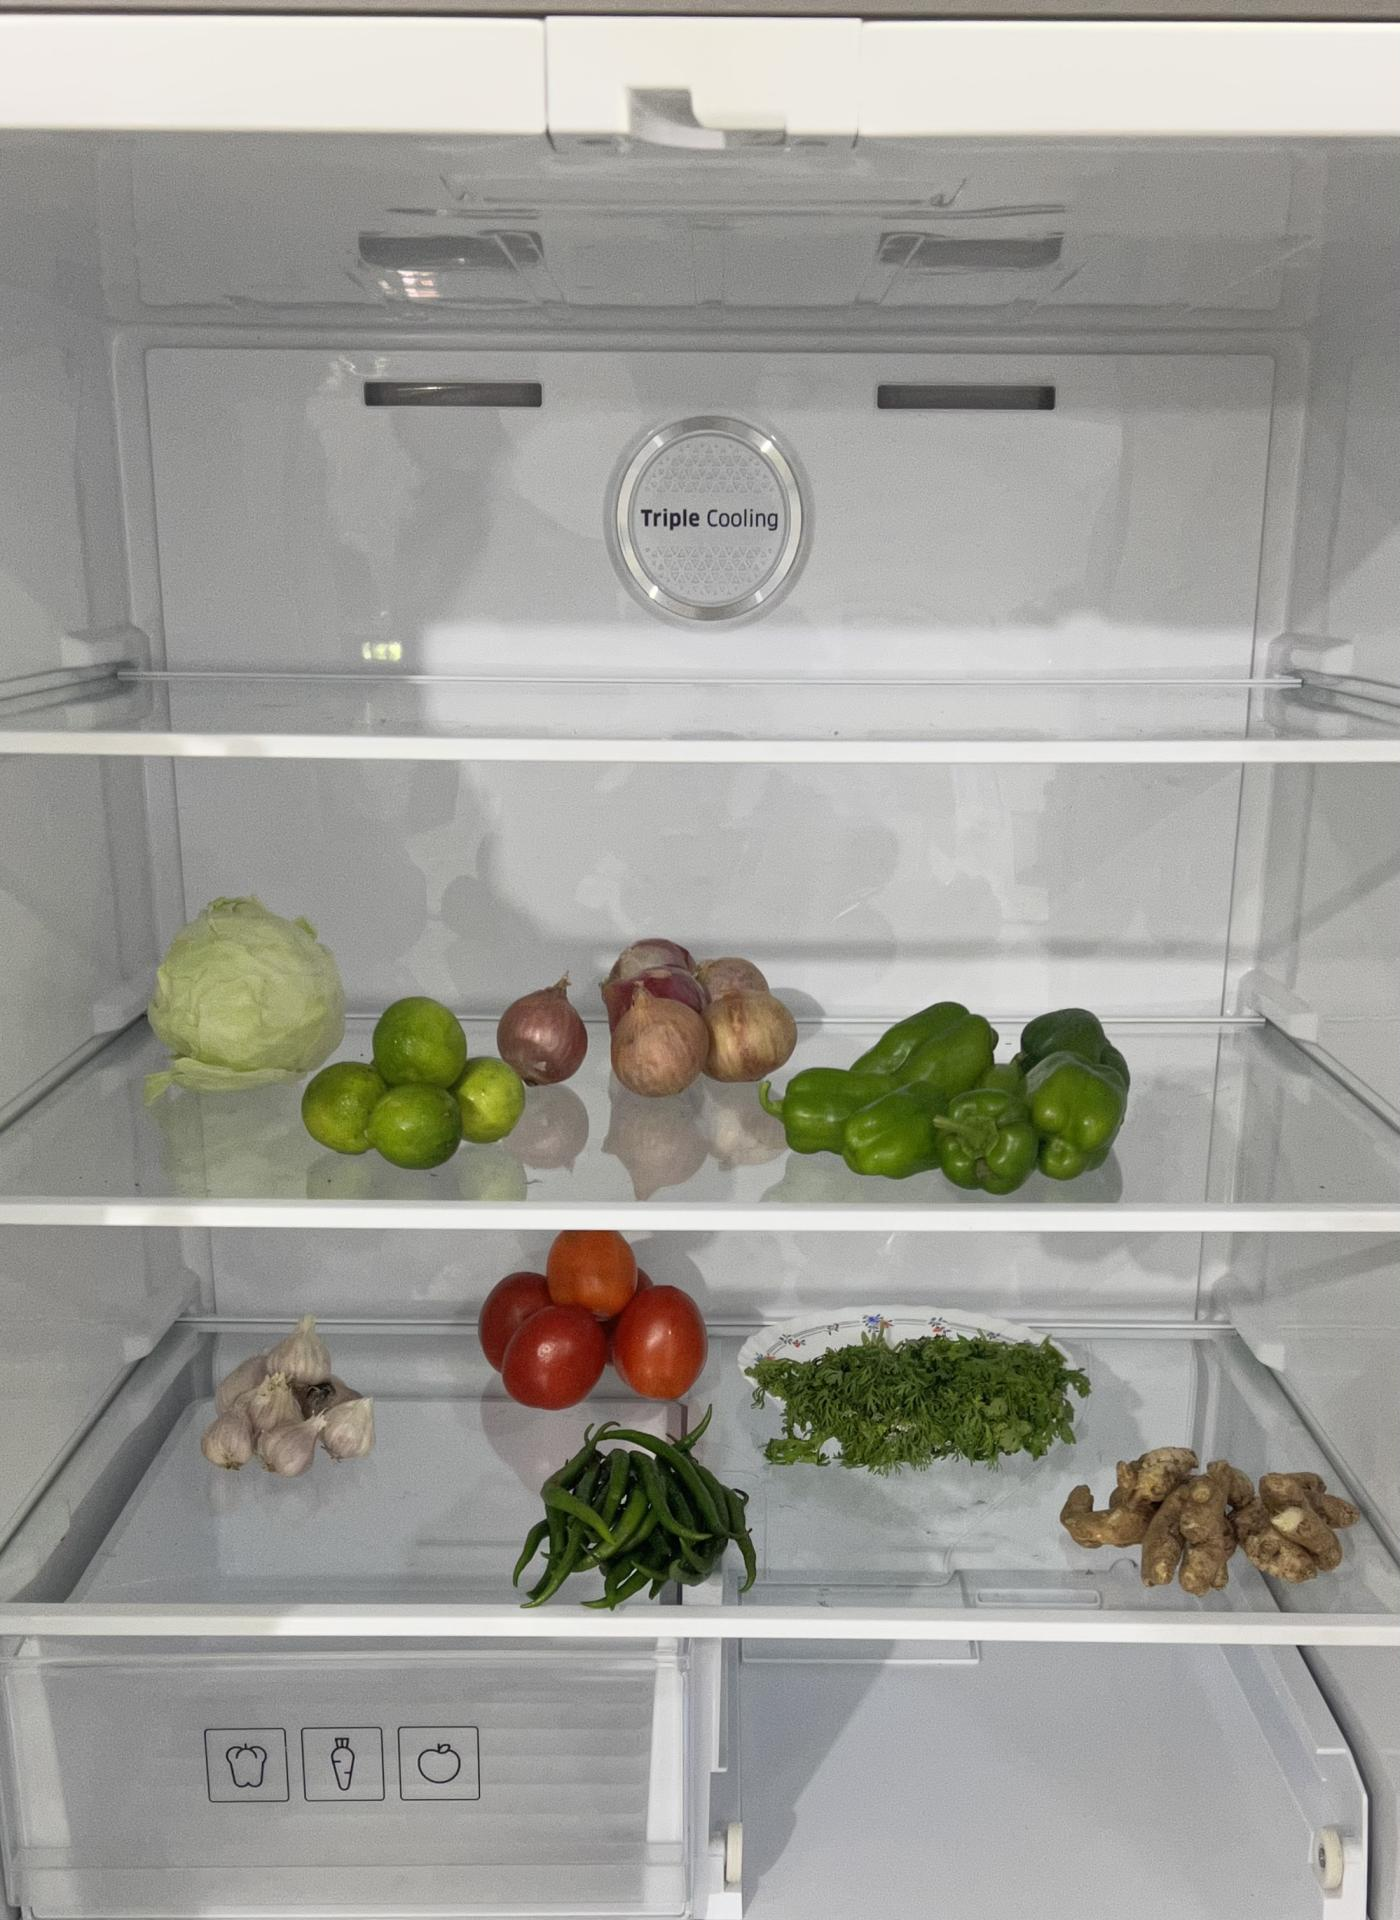cabbage: (149, 896, 343, 1079)
capsicum: (778, 1000, 1129, 1191)
chillies: (511, 1410, 760, 1608)
coriander: (745, 1318, 1097, 1470)
garlic: (200, 1312, 376, 1476)
ginger: (1063, 1443, 1360, 1592)
lemon: (298, 996, 525, 1169)
onion: (495, 936, 796, 1093)
tomato: (476, 1227, 711, 1409)
